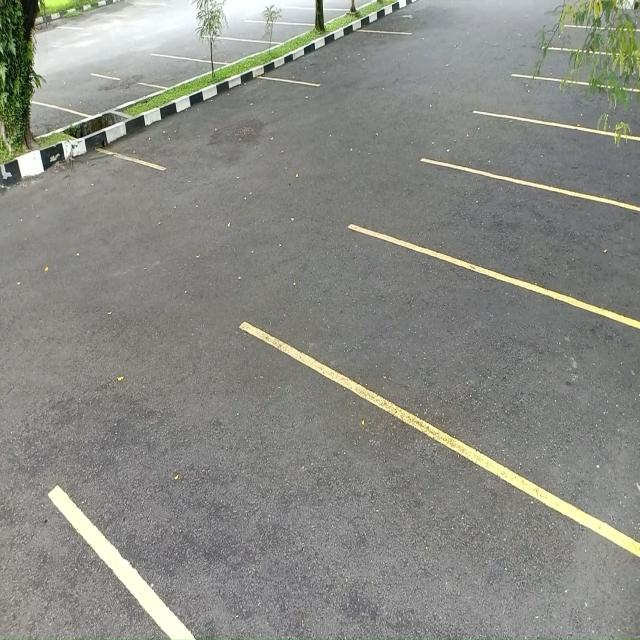empty: (199, 388, 453, 640), (401, 269, 628, 482), (453, 177, 640, 306), (167, 78, 297, 176), (477, 120, 640, 198), (300, 27, 383, 87), (47, 76, 143, 116), (149, 51, 200, 90), (205, 36, 256, 68), (244, 20, 304, 45)
